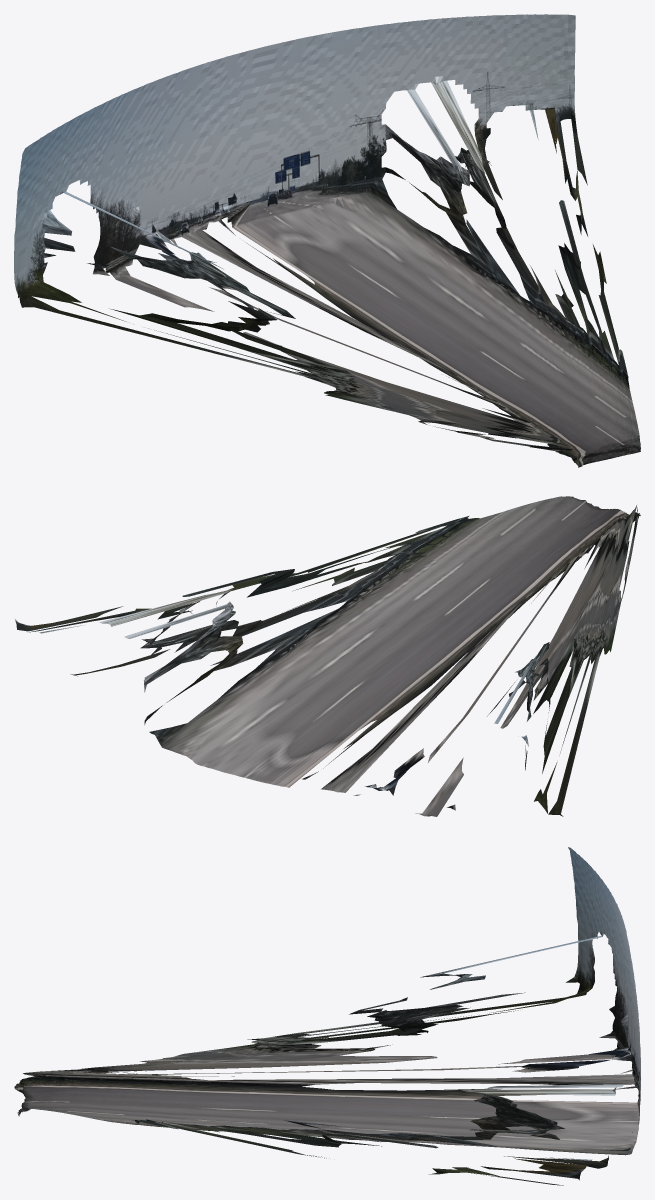
3 renders of one model, top to bottom at view 1: azimuth 30°, elevation 25°; view 2: azimuth 150°, elevation 25°; view 3: azimuth 270°, elevation 25°, orthographic. The views are drawn at different scales.
Visible parts, largest first — view 1: defaultobject; view 2: defaultobject; view 3: defaultobject.
Part boxes in pixels (x1,y1,x2,y2): defaultobject: [14, 14, 640, 467]; defaultobject: [15, 496, 640, 816]; defaultobject: [14, 847, 640, 1185].
Bounding box in the file's own units: 41.11 × 13.09 × 44.67.
Materials: 1 (1 with a texture image).
